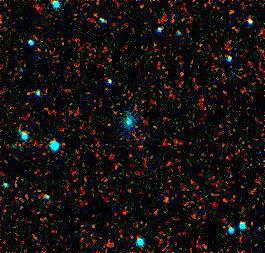star: (152, 169, 182, 199)
